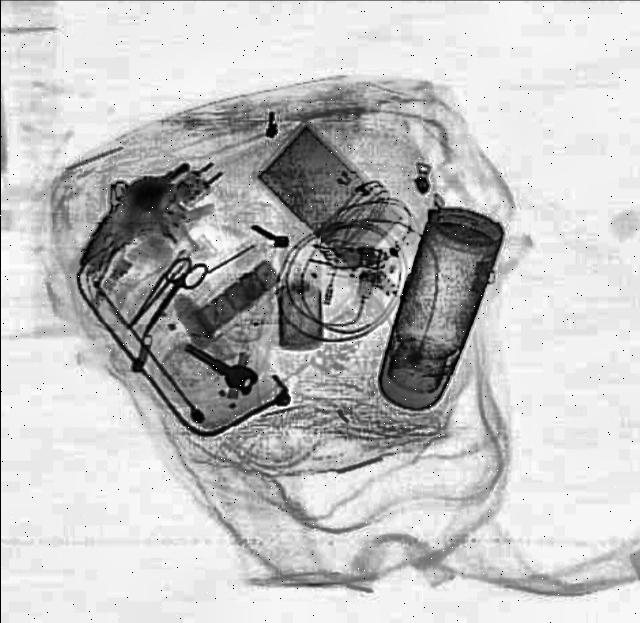Scissors: (131, 252, 213, 342)
